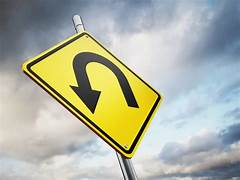back: (20, 30, 163, 159)
